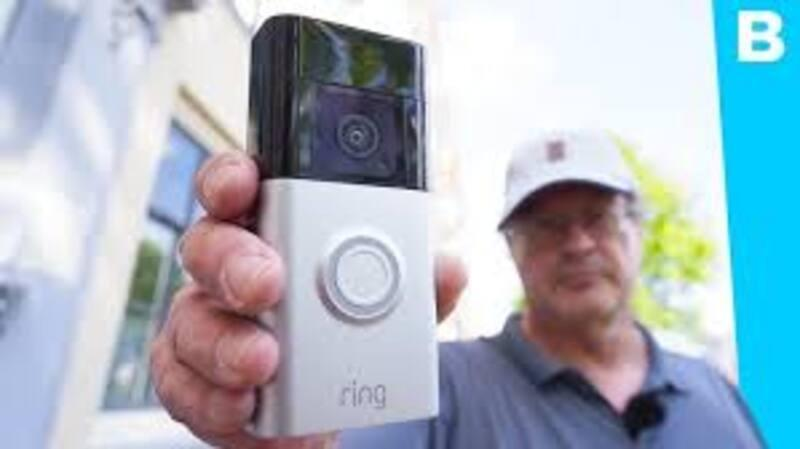doorbell: (287, 47, 427, 414)
